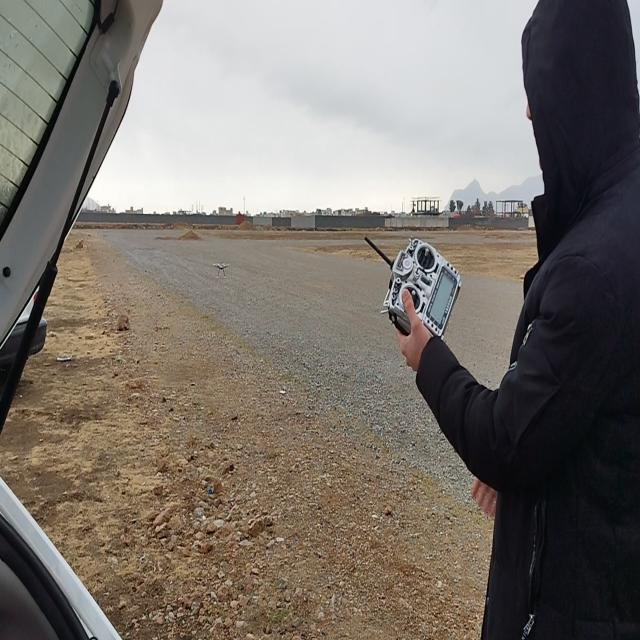drone: (212, 259, 229, 281)
